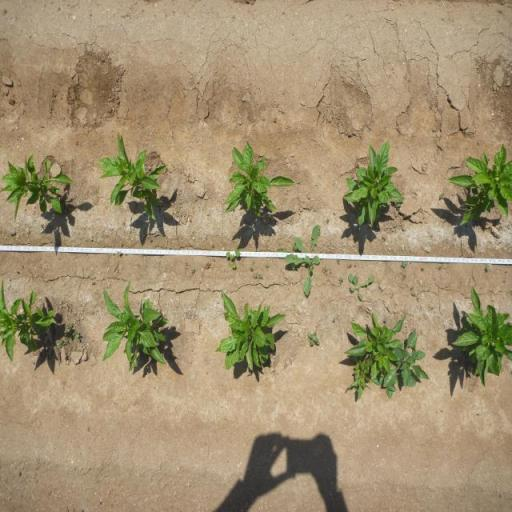plant: (96, 128, 168, 222), (100, 280, 169, 372), (452, 284, 512, 387), (340, 136, 406, 226), (216, 288, 286, 372), (0, 151, 77, 225), (445, 142, 512, 226), (224, 139, 296, 216), (0, 277, 57, 361), (345, 310, 400, 362)
weed: (371, 331, 431, 400), (278, 223, 322, 298), (347, 356, 371, 402), (348, 272, 374, 301), (57, 322, 80, 350), (226, 250, 240, 270), (306, 331, 321, 347), (322, 264, 328, 275), (204, 262, 212, 270), (410, 286, 416, 296), (484, 264, 491, 272), (339, 276, 344, 286), (439, 192, 445, 200), (402, 260, 408, 268), (264, 263, 270, 271), (346, 263, 352, 270), (400, 274, 407, 280), (190, 268, 196, 275), (437, 265, 443, 271), (116, 250, 122, 256), (252, 258, 256, 266), (258, 273, 263, 279), (336, 258, 340, 264), (421, 266, 425, 272), (249, 266, 253, 272), (252, 274, 258, 278), (326, 217, 329, 224), (212, 259, 216, 262), (212, 243, 214, 248)
